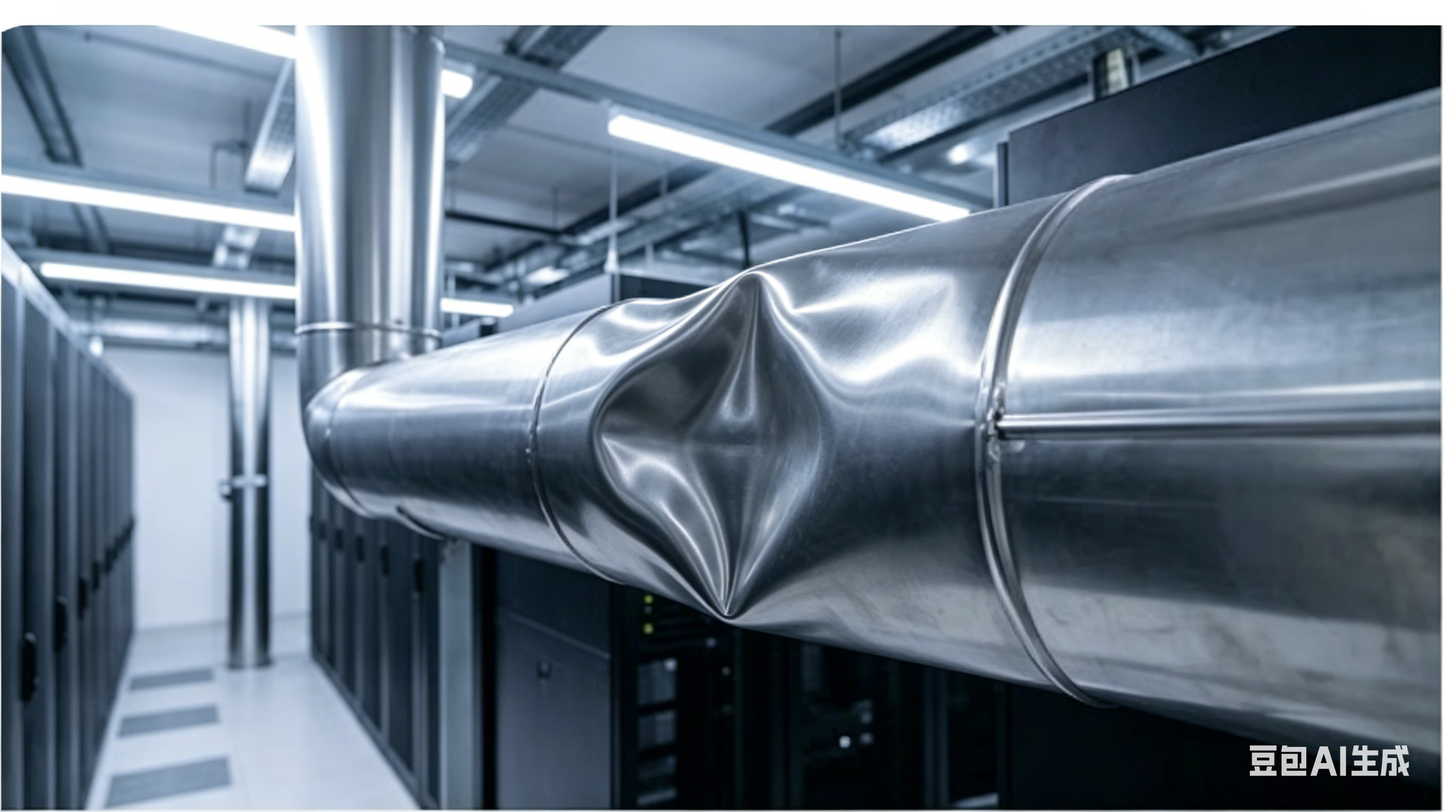Leakage: (594, 263, 837, 618)
